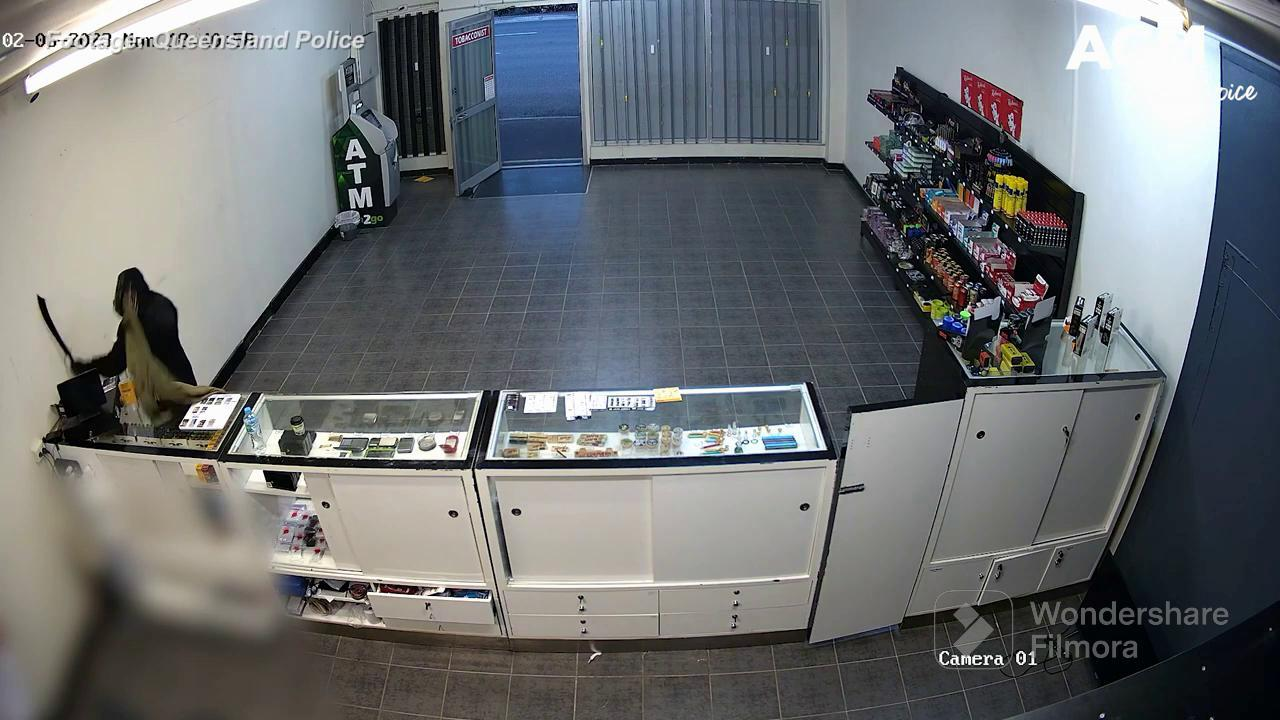melee: (29, 294, 82, 368)
